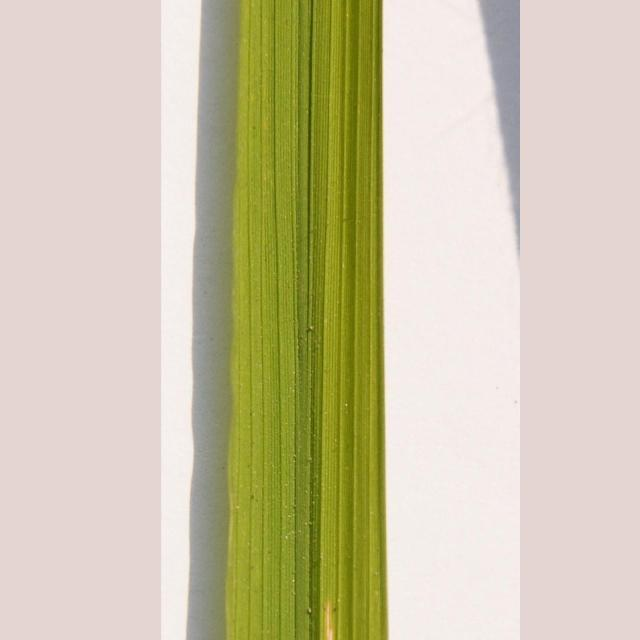Bacterial_Leaf_Blight: (285, 587, 361, 640)
